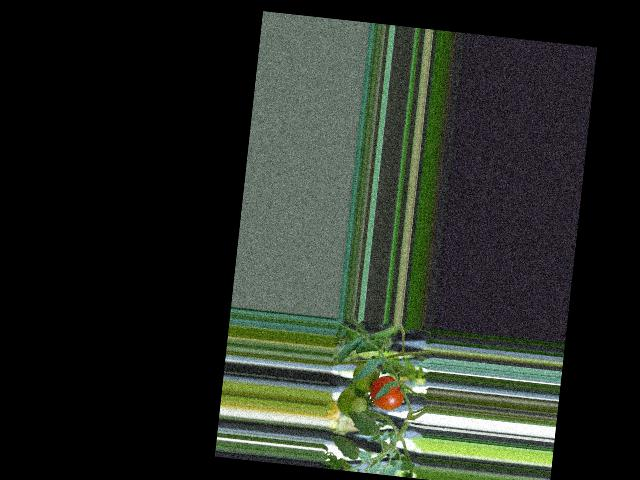tomato: (368, 374, 405, 412)
